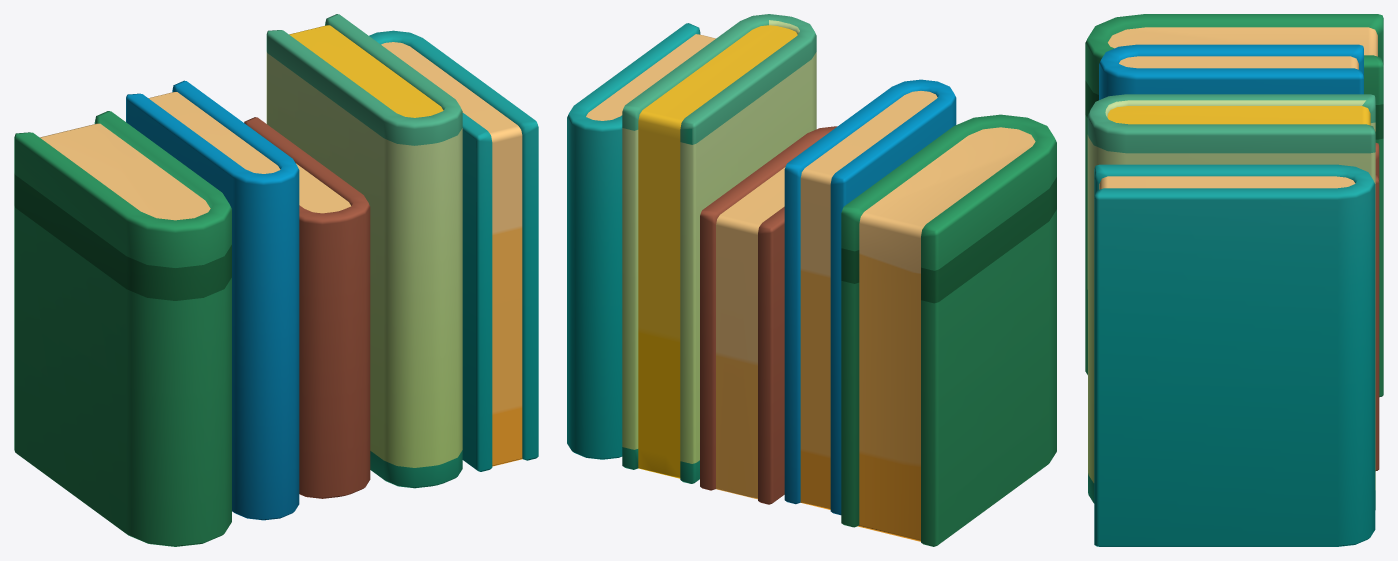
The model's file is Books_02.fbx.
The picture shows the model from 3 angles, left to right: view 1: azimuth 30°, elevation 25°; view 2: azimuth 150°, elevation 25°; view 3: azimuth 270°, elevation 25°; orthographic projection. The views are drawn at different scales.
Visible parts, largest first — view 1: Books_02; view 2: Books_02; view 3: Books_02.
Boxes of the visible parts, <box> form: Books_02: <box>14,14,538,546</box>; Books_02: <box>567,14,1056,546</box>; Books_02: <box>1085,14,1383,546</box>.
Bounding box in the file's own units: 35.47 × 31.73 × 22.42.
